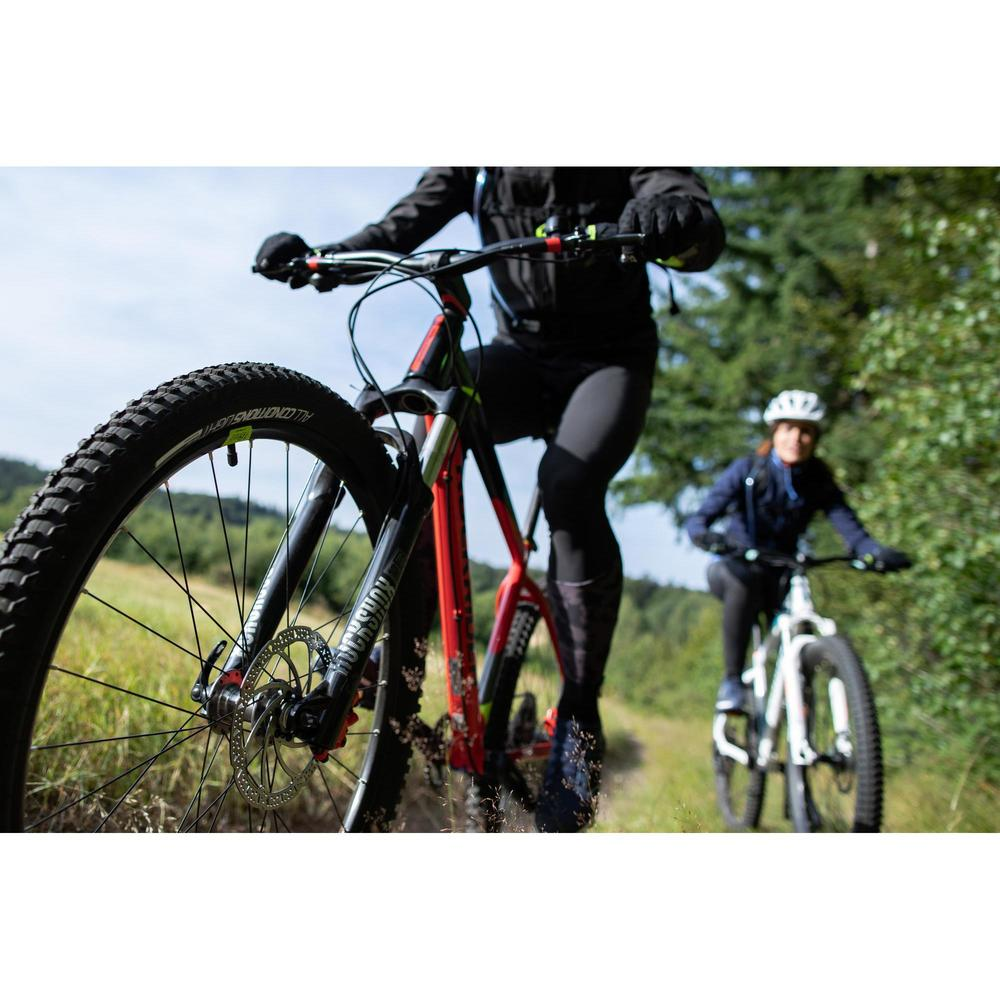MountainBike: (2, 198, 649, 827), (704, 533, 881, 842)
